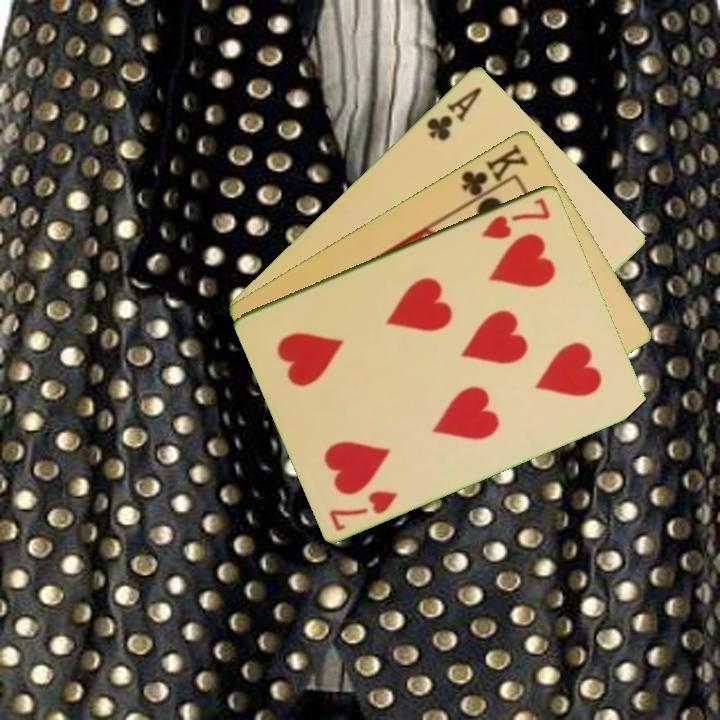7h: (477, 193, 554, 242), (325, 486, 401, 534)
Ac: (423, 82, 485, 143)
Kc: (458, 139, 532, 205)
